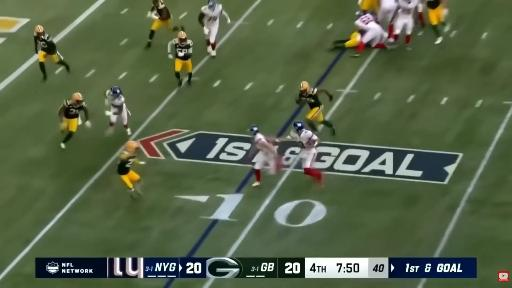Helmet: (126, 139, 139, 153), (33, 25, 47, 38), (176, 29, 190, 42), (71, 92, 84, 105), (298, 80, 311, 93), (293, 121, 305, 133), (355, 10, 363, 21), (249, 125, 258, 134), (207, 0, 216, 9), (111, 87, 121, 95)
Jersey: (34, 33, 57, 54), (299, 88, 322, 109), (172, 39, 193, 60), (63, 100, 86, 119), (201, 4, 222, 24), (118, 152, 135, 175), (355, 14, 378, 30), (299, 130, 318, 149), (254, 133, 272, 152), (398, 0, 418, 16), (107, 91, 125, 107), (156, 7, 171, 21), (426, 0, 441, 9), (380, 0, 396, 7)
Player: (284, 122, 323, 186), (296, 82, 335, 135), (248, 125, 281, 186), (34, 26, 69, 80), (59, 93, 91, 148), (199, 0, 230, 56), (352, 12, 388, 57), (118, 141, 145, 197), (168, 31, 193, 86), (106, 87, 131, 135), (394, 0, 418, 49), (146, 0, 171, 47), (426, 0, 449, 43), (378, 0, 397, 38), (330, 31, 364, 50), (416, 0, 425, 35), (359, 0, 379, 13)
